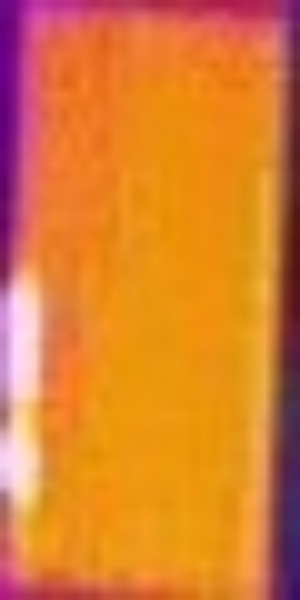Diode: (1, 251, 51, 519)
